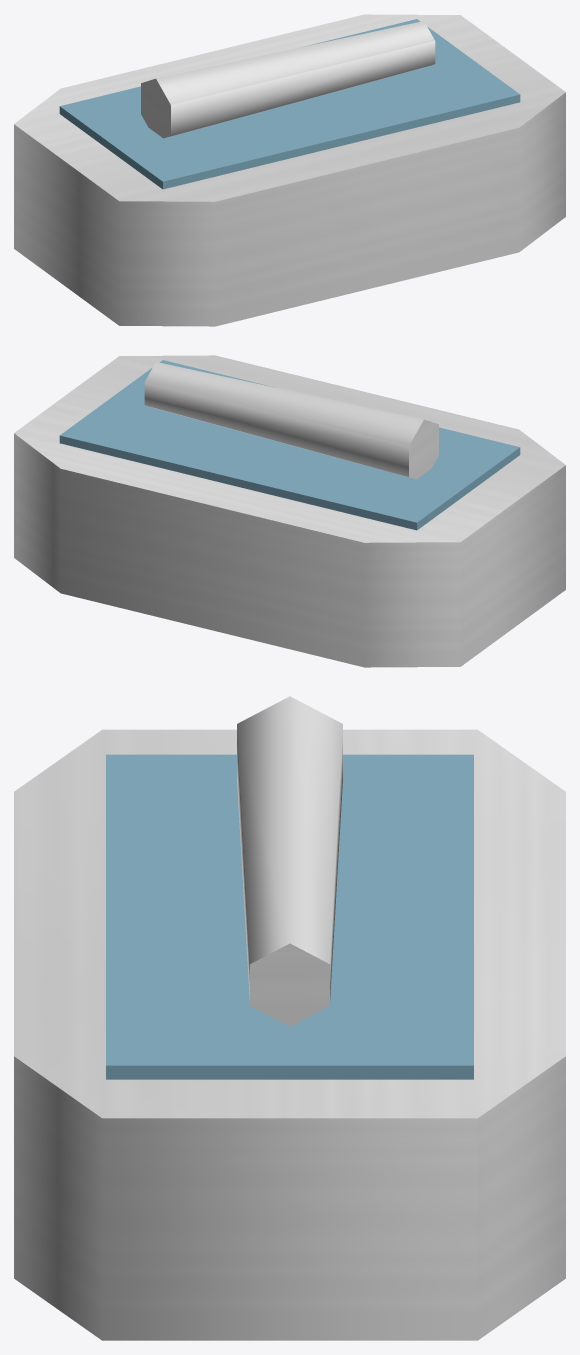
The model's file is item_bionic.obj.
3 views of the same model, one above another, from view 1: azimuth 30°, elevation 25°; view 2: azimuth 150°, elevation 25°; view 3: azimuth 270°, elevation 25° (orthographic). The views are drawn at different scales.
Parts seen in each view (by area): view 1: part_000_gun_light, part_005_glass, part_010_gun_metal; view 2: part_000_gun_light, part_005_glass, part_010_gun_metal; view 3: part_000_gun_light, part_005_glass, part_010_gun_metal.
Part boxes in pixels (x1=…): part_000_gun_light: x1=14, y1=14, x2=565, y2=326; part_005_glass: x1=59, y1=19, x2=520, y2=189; part_010_gun_metal: x1=141, y1=21, x2=435, y2=138; part_000_gun_light: x1=14, y1=355, x2=565, y2=667; part_005_glass: x1=59, y1=360, x2=520, y2=530; part_010_gun_metal: x1=144, y1=362, x2=438, y2=479; part_000_gun_light: x1=14, y1=729, x2=565, y2=1340; part_005_glass: x1=106, y1=754, x2=473, y2=1079; part_010_gun_metal: x1=237, y1=696, x2=342, y2=1026.
Bounding box in the file's own units: 0.6 × 0.24 × 0.36.
